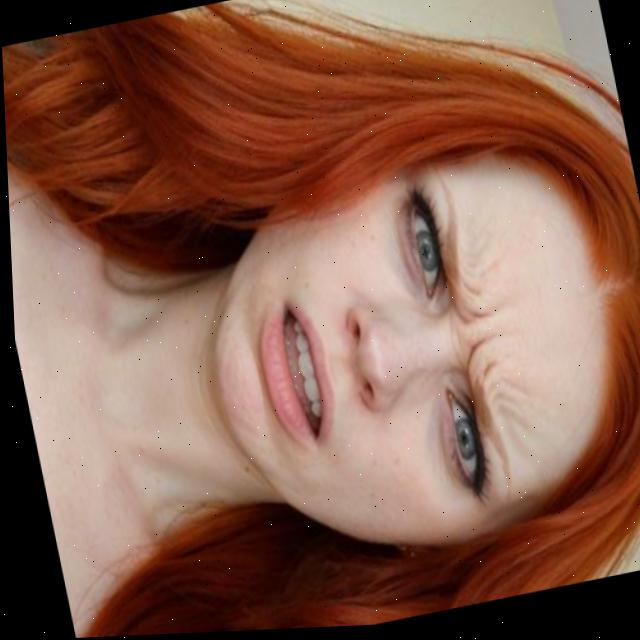angry: (205, 156, 552, 576)
